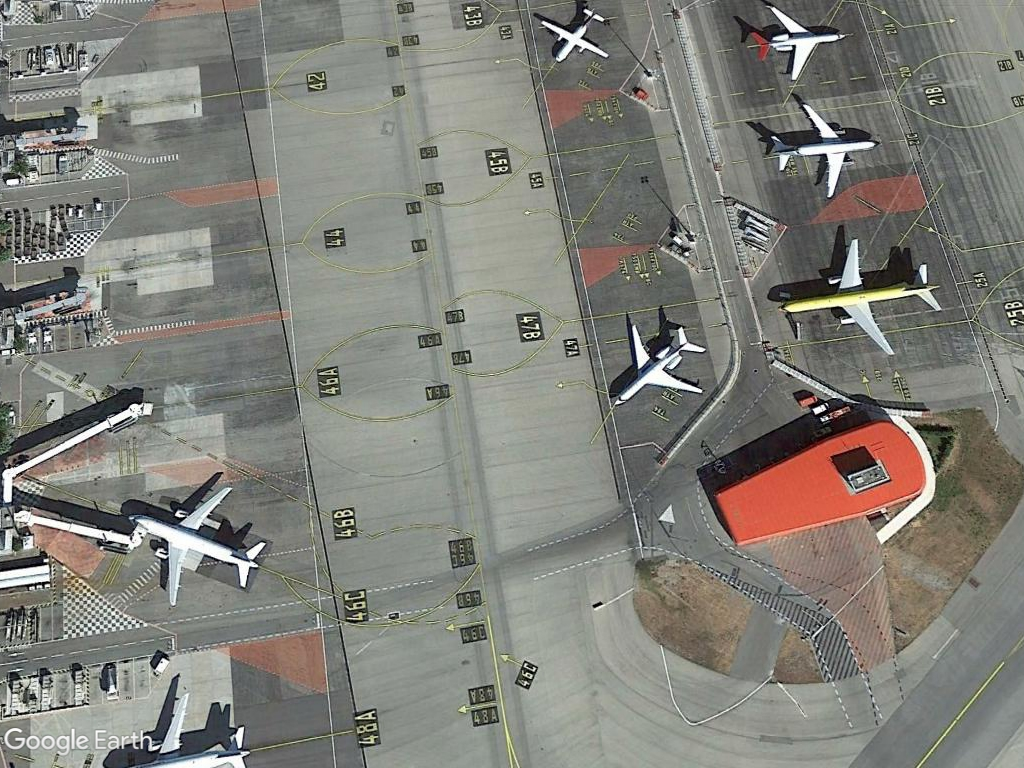airliner: (777, 235, 946, 359), (127, 482, 272, 610)
chartered: (598, 319, 709, 407)
